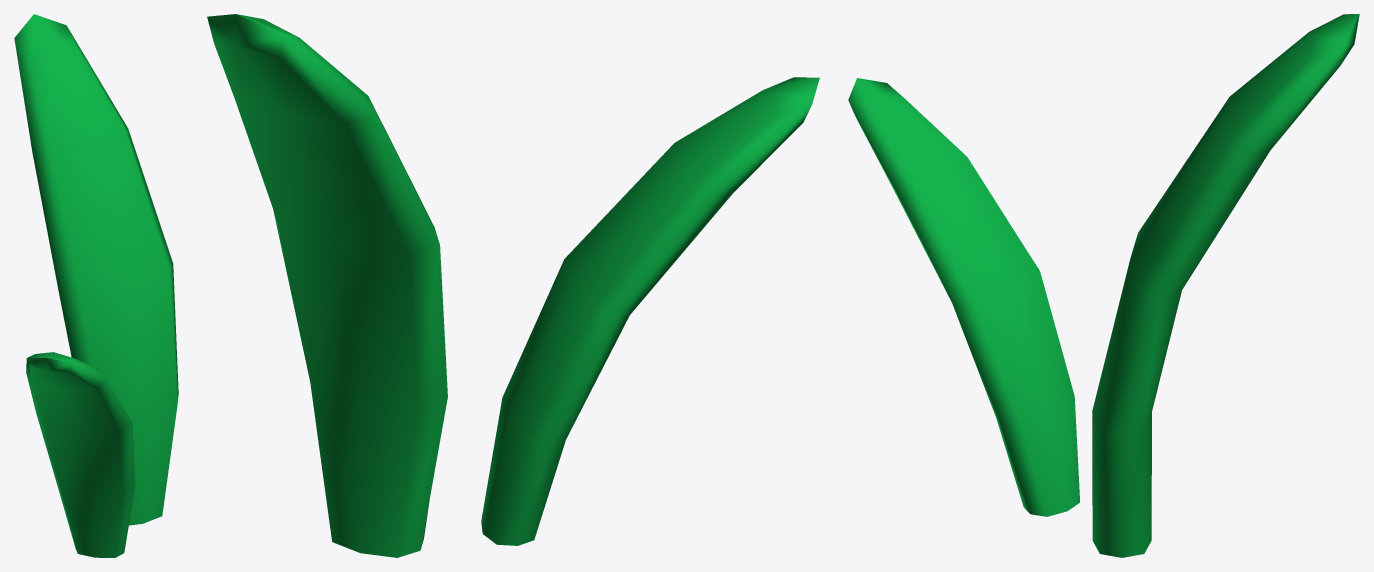
Rendered from Town_1_Grass_2.glb.
The picture shows the model from 3 angles, left to right: view 1: azimuth 30°, elevation 25°; view 2: azimuth 150°, elevation 25°; view 3: azimuth 270°, elevation 25°; orthographic projection. The views are drawn at different scales.
Parts seen in each view (by area): view 1: Town_1_Grass_2; view 2: Town_1_Grass_2; view 3: Town_1_Grass_2.
Boxes of the visible parts, bbox=[...] form: Town_1_Grass_2: bbox=[14, 14, 178, 557]; Town_1_Grass_2: bbox=[207, 14, 819, 557]; Town_1_Grass_2: bbox=[848, 14, 1359, 557].
Size of the model in its own units: 0.2083 by 0.3324 by 0.2926.
1 material, 1 textured.
